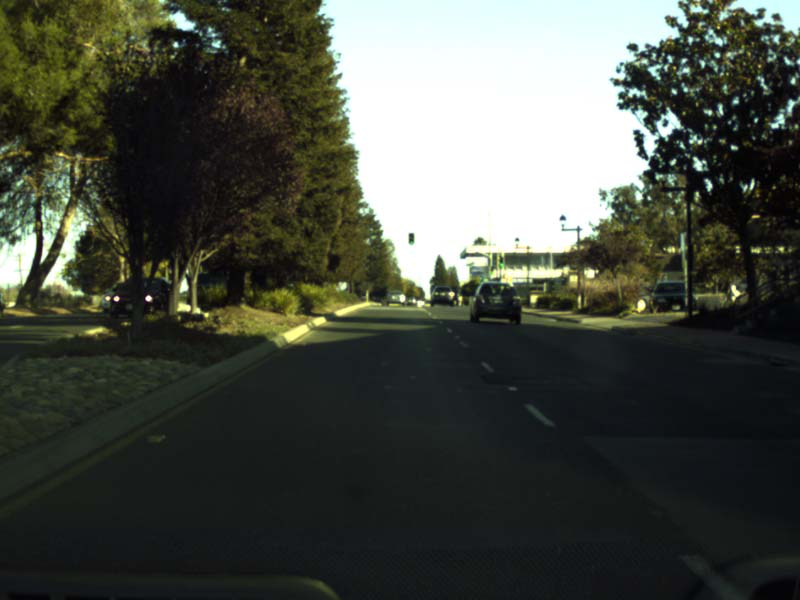Green: (408, 233, 414, 245), (498, 256, 504, 268)
